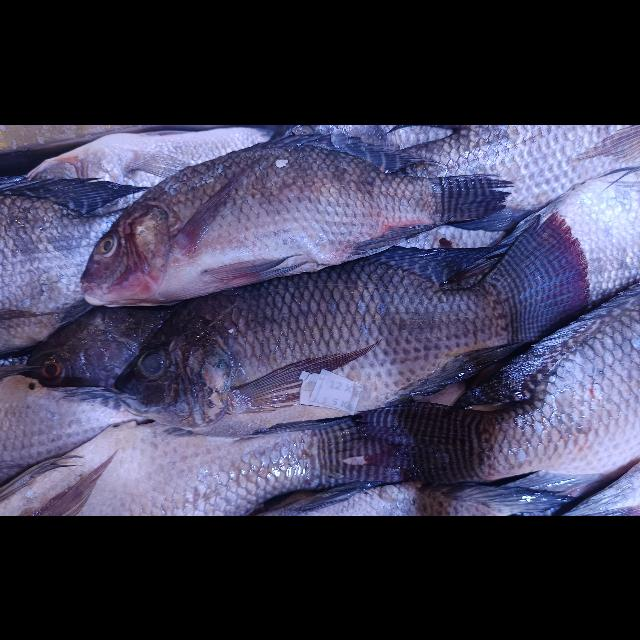Tilapia: (112, 210, 596, 438), (80, 130, 516, 308), (350, 283, 636, 485)
